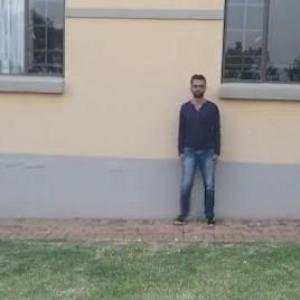follow: (177, 72, 223, 226)
